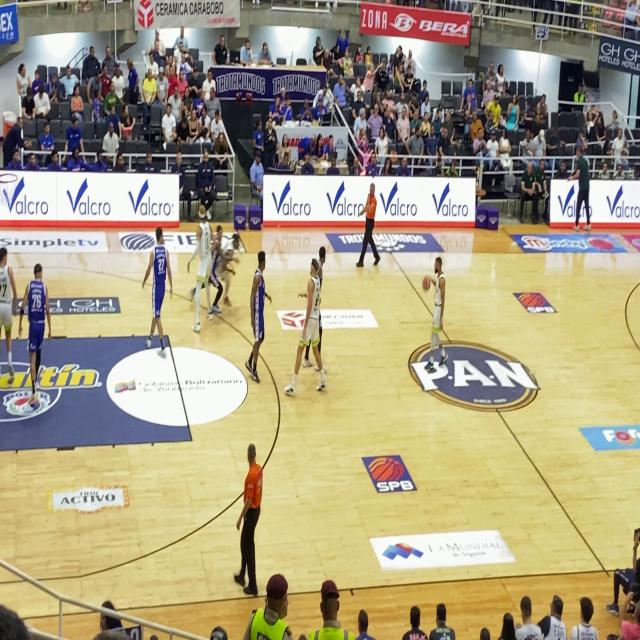Ball: (418, 273, 434, 299)
referee: (227, 427, 269, 599), (351, 171, 385, 281)
team1: (290, 251, 327, 405), (414, 250, 454, 380), (190, 203, 217, 341), (0, 237, 17, 397), (222, 221, 245, 324)
team2: (17, 261, 56, 403), (141, 215, 173, 366), (241, 245, 273, 389)
